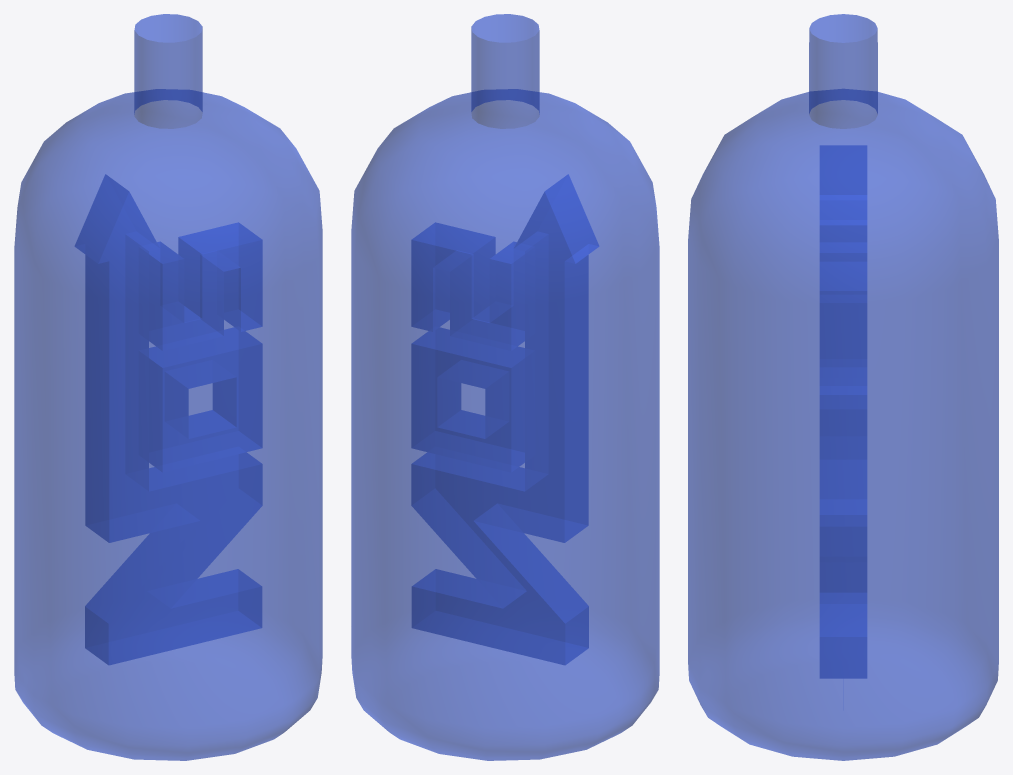
File: NOsBottle.FBX
3 views of the same model, side by side, from view 1: azimuth 30°, elevation 25°; view 2: azimuth 150°, elevation 25°; view 3: azimuth 270°, elevation 25° (orthographic).
Visible parts, largest first — view 1: NOsBot; view 2: NOsBot; view 3: NOsBot.
Part boxes in pixels (x1=…): NOsBot: x1=14, y1=14, x2=322, y2=760; NOsBot: x1=351, y1=14, x2=659, y2=760; NOsBot: x1=688, y1=14, x2=998, y2=760.
Bounding box in the file's own units: 62.08 × 150 × 62.08.
